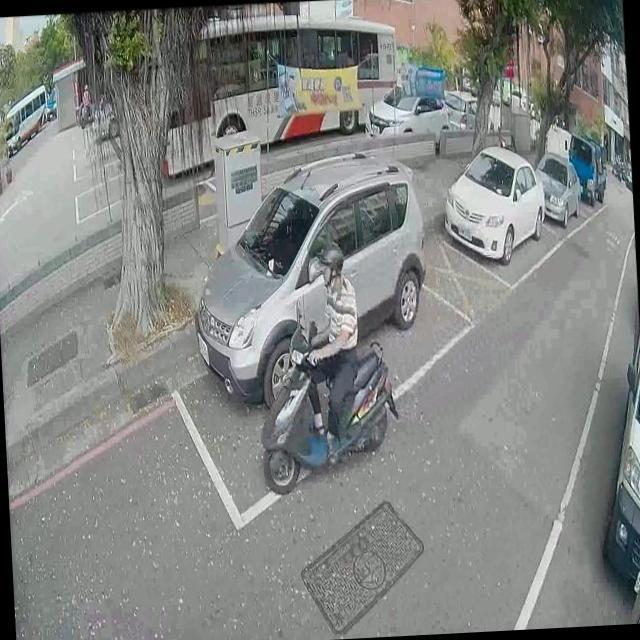person: (284, 227, 368, 476), (79, 78, 92, 125)
